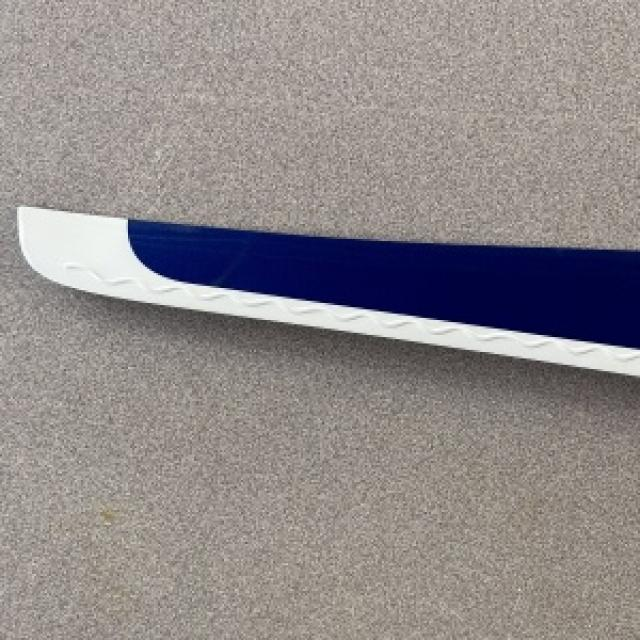healthy: (17, 205, 638, 375)
